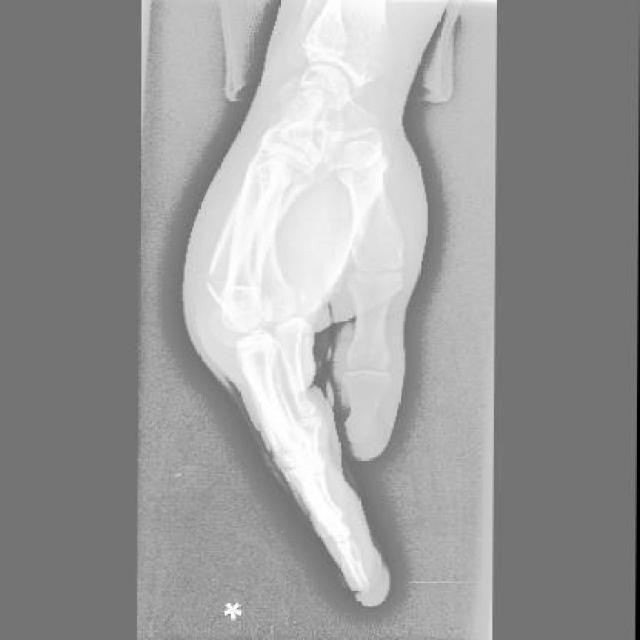Fracture: (205, 263, 256, 306)
